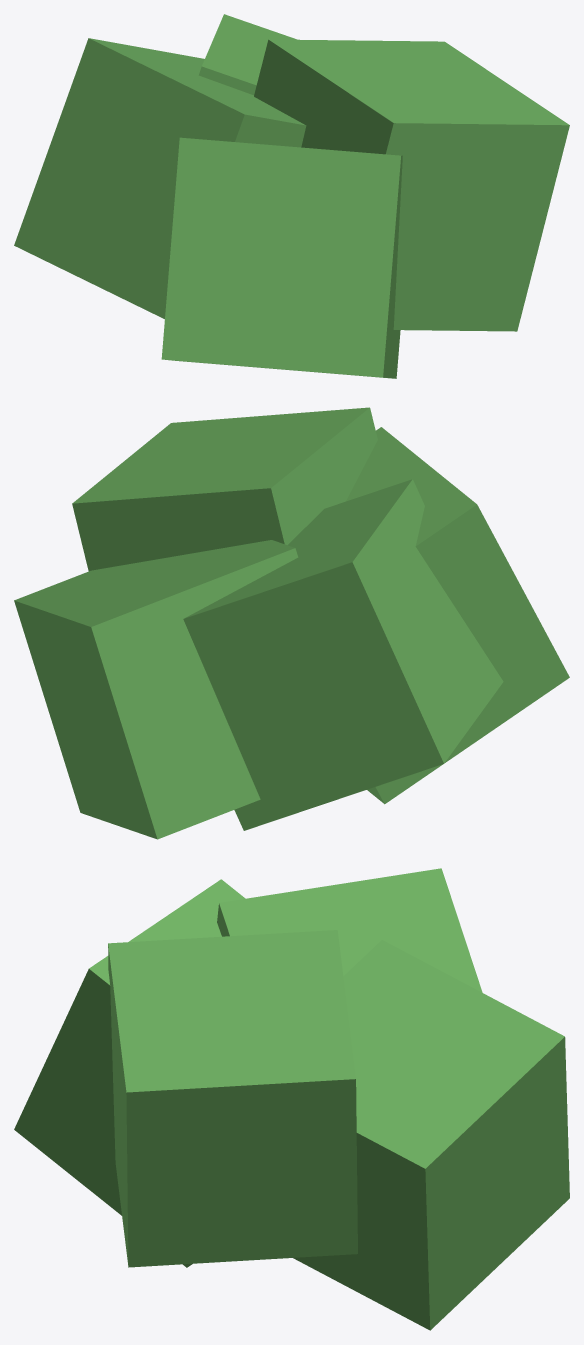
File: food2.fbx
The picture shows the model from 3 angles, top to bottom: view 1: azimuth 30°, elevation 25°; view 2: azimuth 150°, elevation 25°; view 3: azimuth 270°, elevation 25°; orthographic projection. The views are drawn at different scales.
Visible parts, largest first — view 1: Cube, Cube.001, Cube.002, Cube.003; view 2: Cube.002, Cube.003, Cube, Cube.001; view 3: Cube, Cube.003, Cube.001, Cube.002.
Boxes of the visible parts, bbox=[...] form: Cube: bbox=[254, 39, 569, 331]; Cube.001: bbox=[161, 137, 402, 378]; Cube.002: bbox=[14, 38, 306, 319]; Cube.003: bbox=[198, 14, 296, 95]; Cube.002: bbox=[183, 479, 503, 830]; Cube.003: bbox=[14, 540, 298, 839]; Cube: bbox=[72, 407, 377, 571]; Cube.001: bbox=[346, 427, 569, 804]; Cube: bbox=[108, 930, 357, 1267]; Cube.003: bbox=[293, 940, 569, 1330]; Cube.001: bbox=[14, 879, 245, 1267]; Cube.002: bbox=[217, 868, 482, 992].
Bounding box in the file's own units: 35.69 × 25.86 × 39.55.
